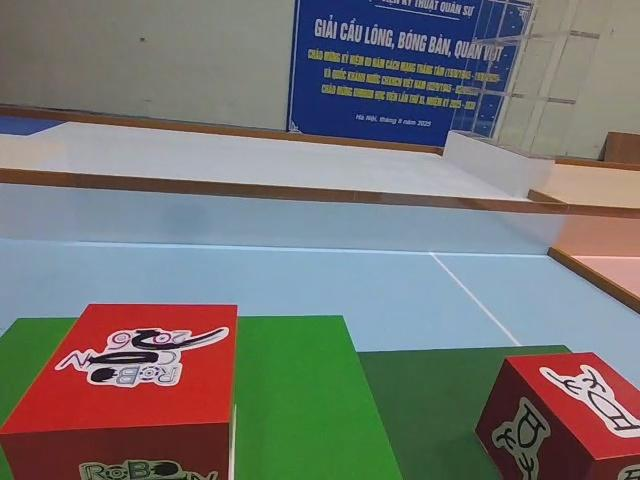R1: (2, 301, 236, 480)
R2 Real: (474, 354, 640, 480)
